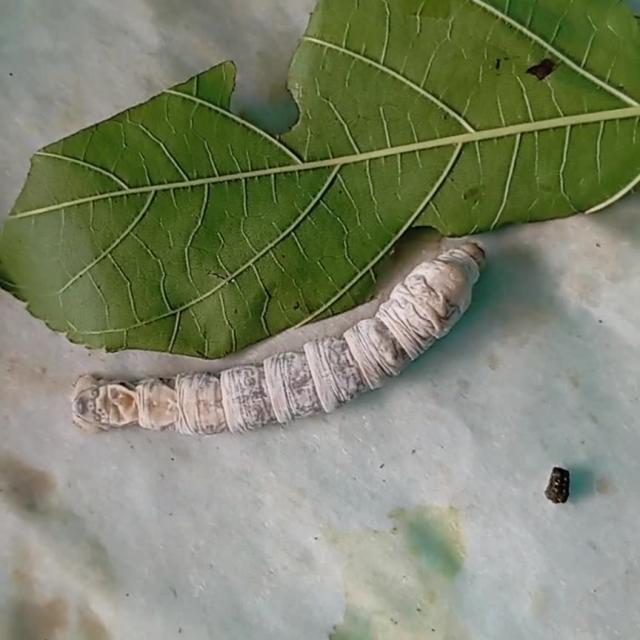Grasserie: (45, 213, 512, 448)
